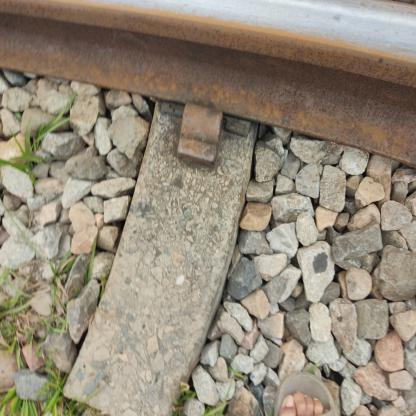Defective: (138, 68, 252, 204)
